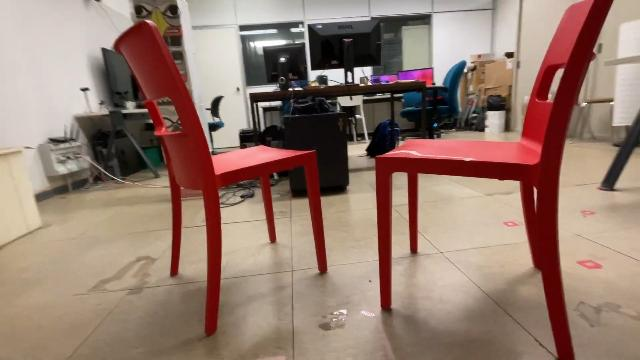Chair: (370, 0, 618, 360), (109, 16, 329, 342)
Lamp: (602, 14, 640, 150)
Stool: (567, 94, 617, 150)
